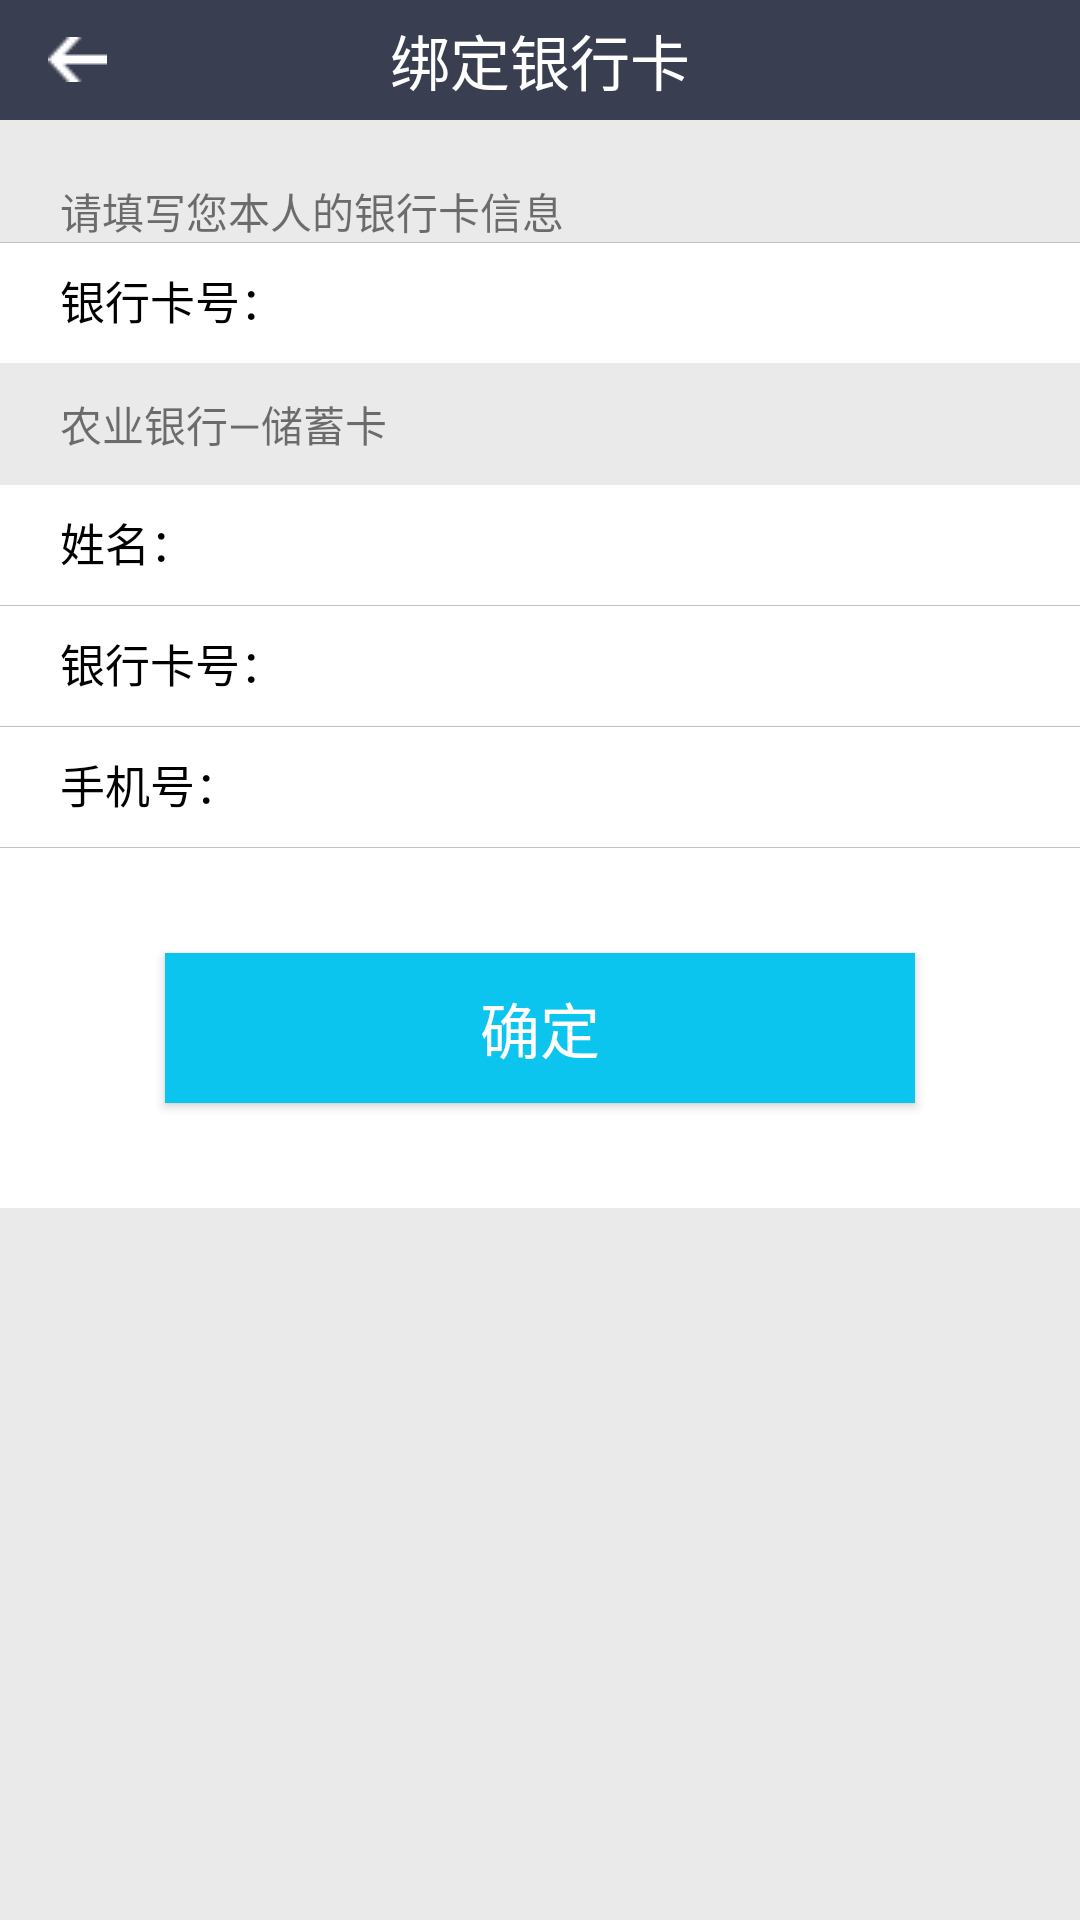

Where icons sit on this 1080px×1920px app screen, as (x1, y1, x2, y2):
back: (48, 37, 107, 82)
